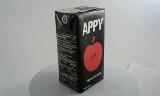appy: (49, 5, 99, 93)
